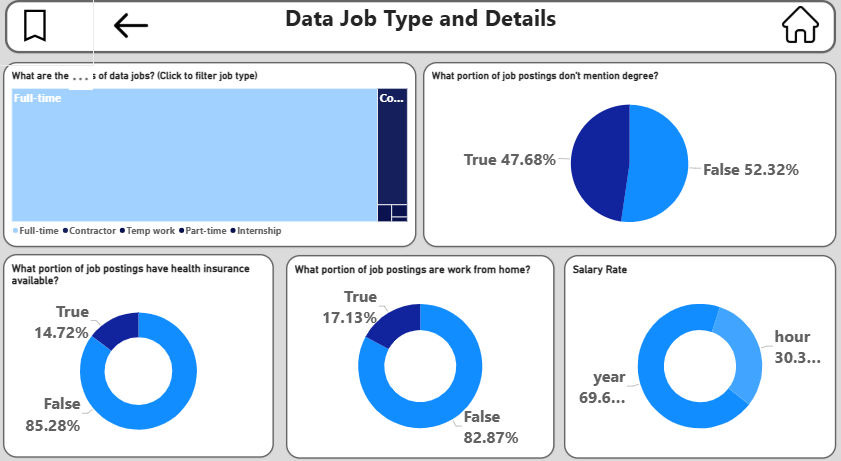

The page's visual inventory and layout, read from the dashboard file:
{"tool":"powerbi","page":{"name":"Job Types and Details","canvas":[1920,1080],"ordinal":2},"visuals":[{"type":"shape","box":[0,0,1920,1080],"z":0},{"type":"donutChart","title":"What portion of job postings are work from home?","fields":{"Y":["CountNonNull(job_postings_flat.job_work_from_home)"],"Category":["job_postings_flat.job_work_from_home"]},"box":[670,592.5,580,440],"z":1000},{"type":"pieChart","title":"What portion of job postings don''t mention degree?","fields":{"Category":["job_postings_flat.job_no_degree_mention"],"Y":["CountNonNull(job_postings_flat.job_no_degree_mention)"]},"box":[965,175,892.5,400],"z":2000},{"type":"treemap","title":"What are the types of data jobs? (Click to filter job type)","fields":{"Group":["job_postings_flat.job_schedule_type"],"Values":["CountNonNull(job_postings_flat.job_title_short)"]},"box":[57.5,175,892.5,400],"z":3000},{"type":"donutChart","title":"What portion of job postings have health insurance available?","fields":{"Category":["job_postings_flat.job_health_insurance"],"Y":["CountNonNull(job_postings_flat.job_health_insurance)"]},"box":[57.5,590,585,440],"z":4000},{"type":"textbox","box":[62.5,40,1795,115],"z":5000},{"type":"donutChart","title":"Salary Rate","fields":{"Y":["CountNonNull(job_postings_flat.salary_rate)"],"Category":["job_postings_flat.salary_rate"]},"box":[1270,592.5,587.5,440],"z":6000},{"type":"image","box":[162.5,55,160,80],"z":7000},{"type":"image","box":[1725,55,110,80],"z":8000},{"type":"actionButton","box":[17.5,7.5,255,175],"z":10001}]}

Visuals, with their boxes in screenshot pixels (x1, y1, x2, y2), scaled from the page's 1920x1080 canvas onto the 841x461 screenshot:
shape: (left=0, top=0, right=840, bottom=460)
"What portion of job postings are work from home?" donutChart: (left=293, top=253, right=548, bottom=441)
"What portion of job postings don''t mention degree?" pieChart: (left=423, top=75, right=814, bottom=245)
"What are the types of data jobs? (Click to filter job type)" treemap: (left=25, top=75, right=416, bottom=245)
"What portion of job postings have health insurance available?" donutChart: (left=25, top=252, right=281, bottom=440)
textbox: (left=27, top=17, right=814, bottom=66)
"Salary Rate" donutChart: (left=556, top=253, right=814, bottom=441)
image: (left=71, top=23, right=141, bottom=58)
image: (left=756, top=23, right=804, bottom=58)
actionButton: (left=8, top=3, right=119, bottom=78)
